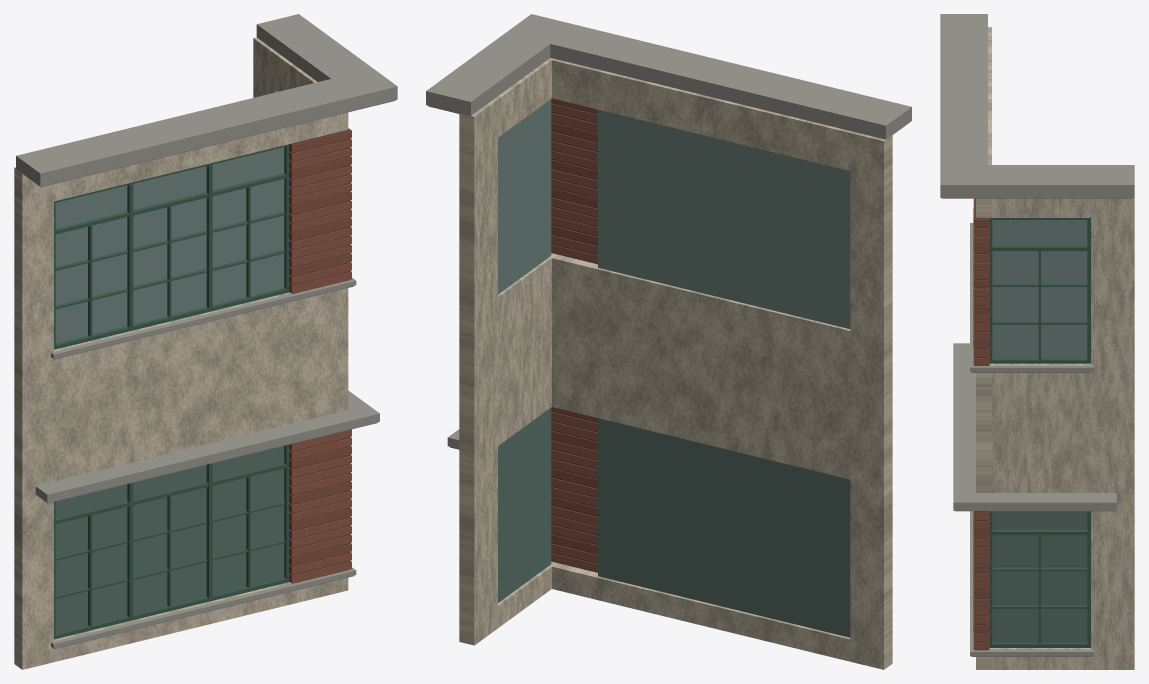
File: jianguo-598-far.glb
3 renders of one model, left to right at view 1: azimuth 30°, elevation 25°; view 2: azimuth 150°, elevation 25°; view 3: azimuth 270°, elevation 25°, orthographic. The views are drawn at different scales.
Visible parts, largest first — view 1: 建国西路598号花园住宅临街转角钢窗与赭砖窗垛; view 2: 建国西路598号花园住宅临街转角钢窗与赭砖窗垛; view 3: 建国西路598号花园住宅临街转角钢窗与赭砖窗垛.
Boxes of the visible parts, left/top/right/bottom form: 建国西路598号花园住宅临街转角钢窗与赭砖窗垛: left=14, top=14, right=397, bottom=669; 建国西路598号花园住宅临街转角钢窗与赭砖窗垛: left=426, top=14, right=911, bottom=669; 建国西路598号花园住宅临街转角钢窗与赭砖窗垛: left=940, top=14, right=1134, bottom=669.
Bounding box in the file's own units: 4.28 × 5.84 × 2.05.
Materials: 9 (1 with a texture image).
